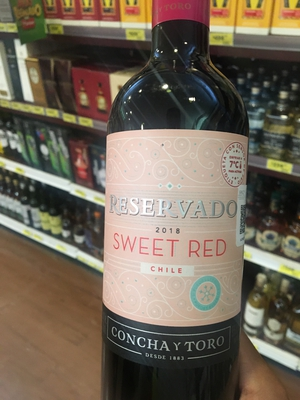reservado sweet red: (98, 15, 261, 400)
